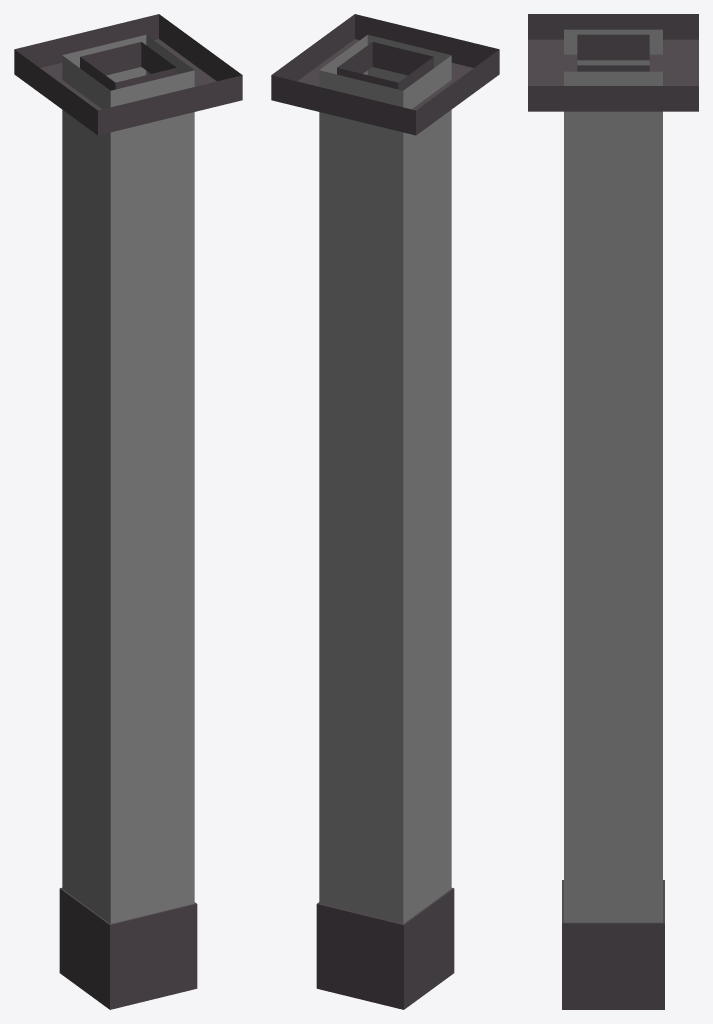
Rendered from SM_pillar_generic_01.fbx.
3 views of the same model, side by side, from view 1: azimuth 30°, elevation 25°; view 2: azimuth 150°, elevation 25°; view 3: azimuth 270°, elevation 25° (orthographic). The views are drawn at different scales.
Visible parts, largest first — view 1: pillar_generic_01; view 2: pillar_generic_01; view 3: pillar_generic_01.
Part boxes in pixels (x1=…): pillar_generic_01: x1=14, y1=14, x2=242, y2=1009; pillar_generic_01: x1=271, y1=14, x2=499, y2=1009; pillar_generic_01: x1=528, y1=14, x2=698, y2=1009.
Size of the model in its own units: 125 by 760 by 125.
